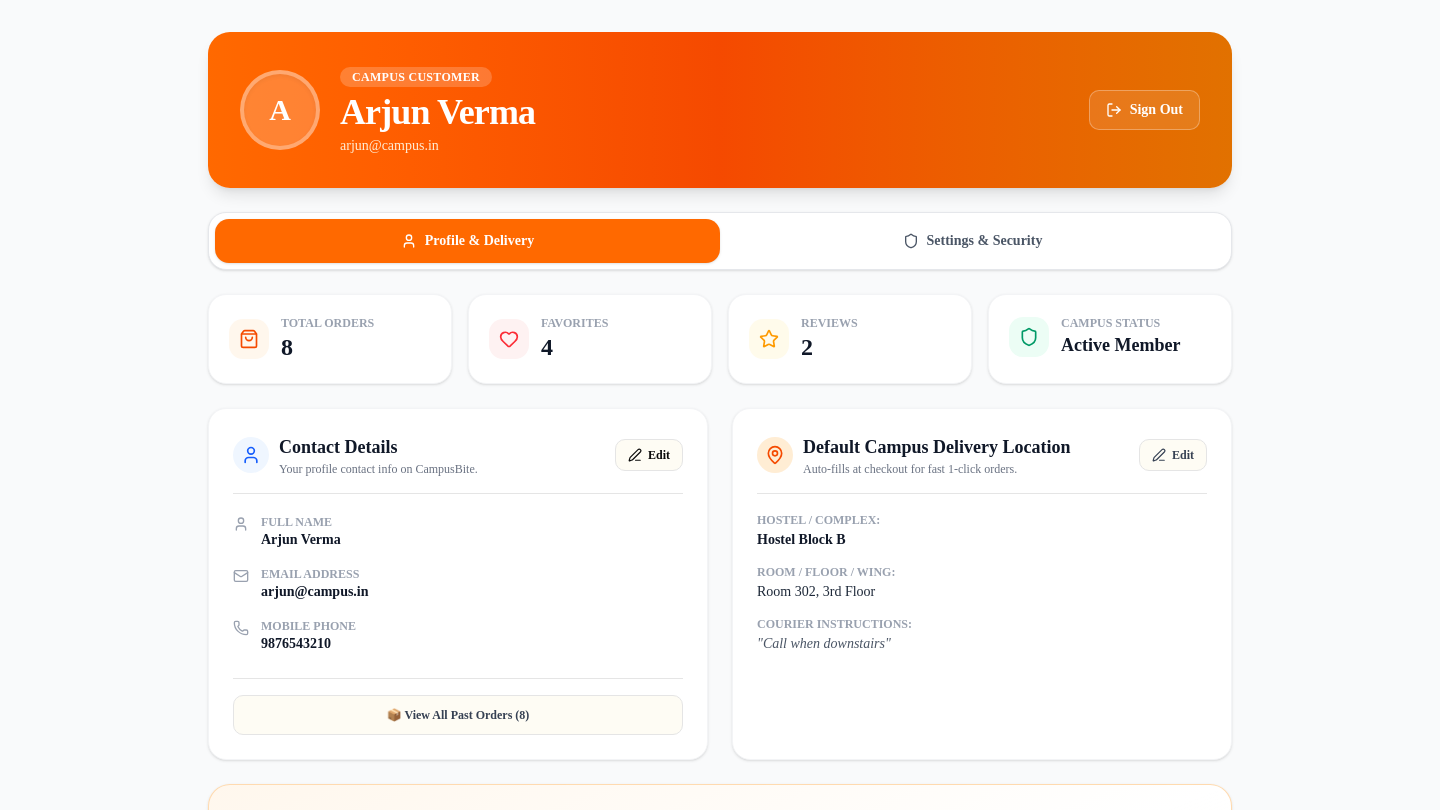
ProfilePage Component › opens delete account modal when clicking Delete Account button
The image size is (1440, 810).
Expected: the heading "Arjun Verma" is shown, [340,92,535,132]
Click the button "Settings & Security" at (972, 241), box [720,219,1225,263]
(page scrolled)
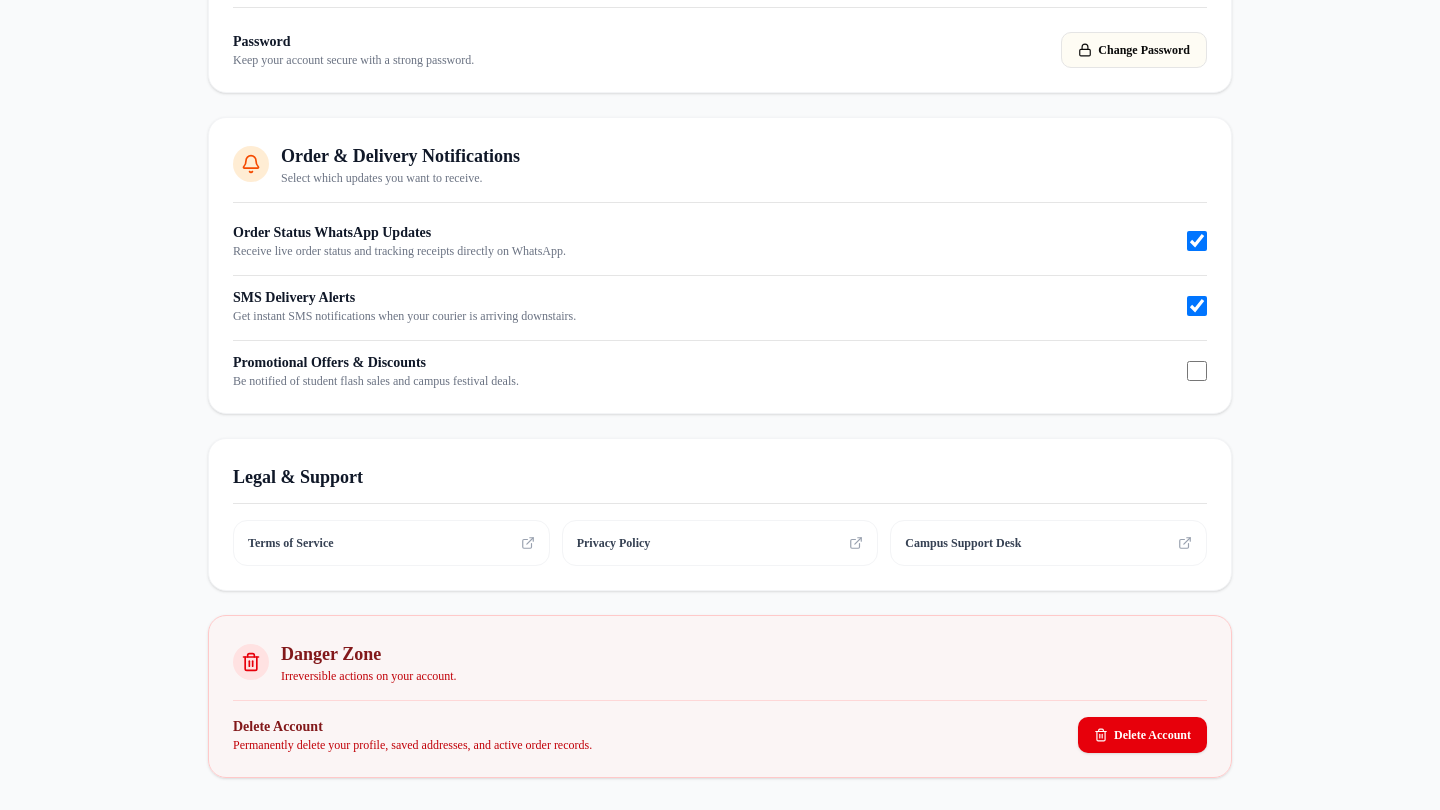
Click the button "Delete Account" at (1142, 735), box [1078,717,1207,753]
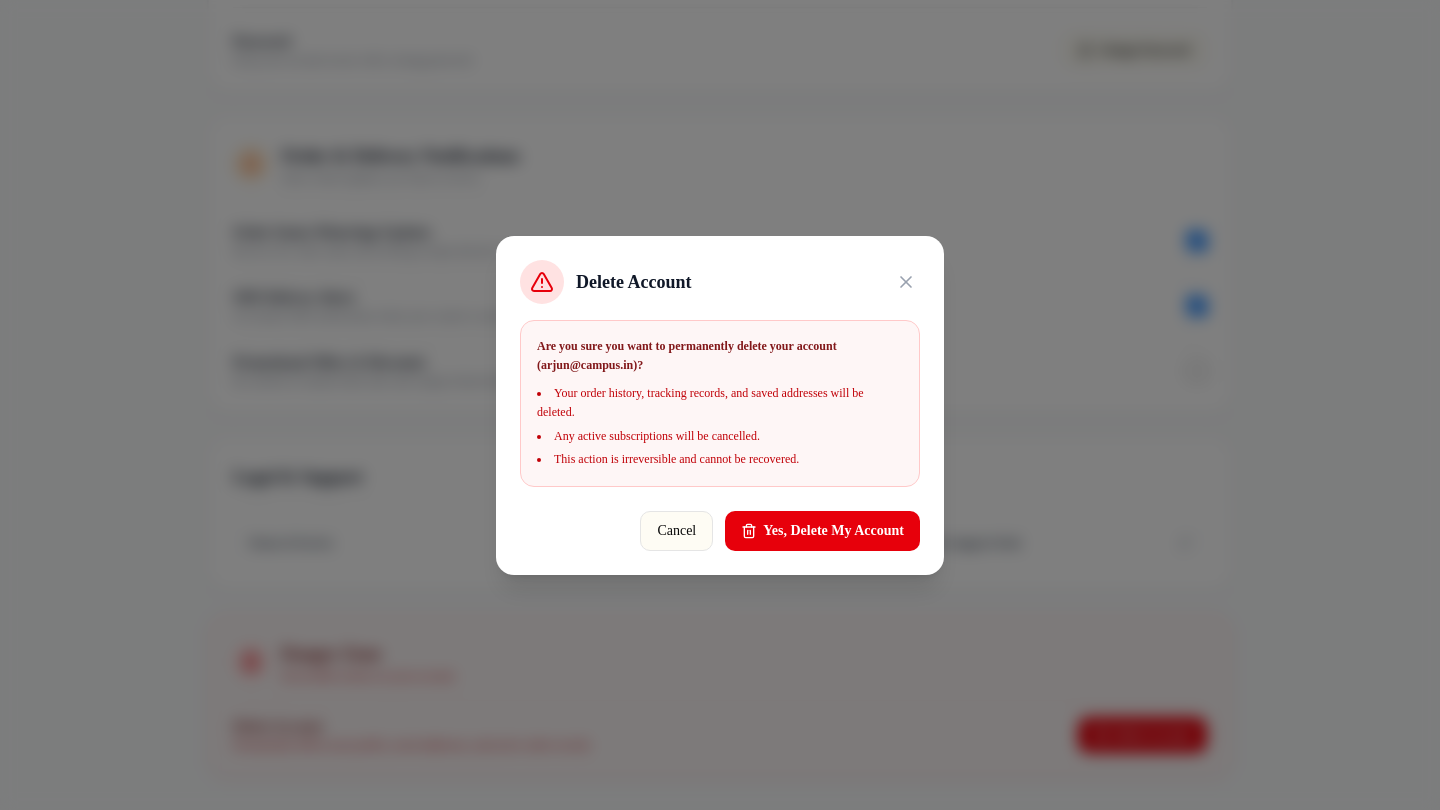
Now the text "Are you sure you want to permanently delete your account" is shown, box [537,338,837,372]
Now the button "Yes, Delete My Account" is shown, box [725,510,920,550]
